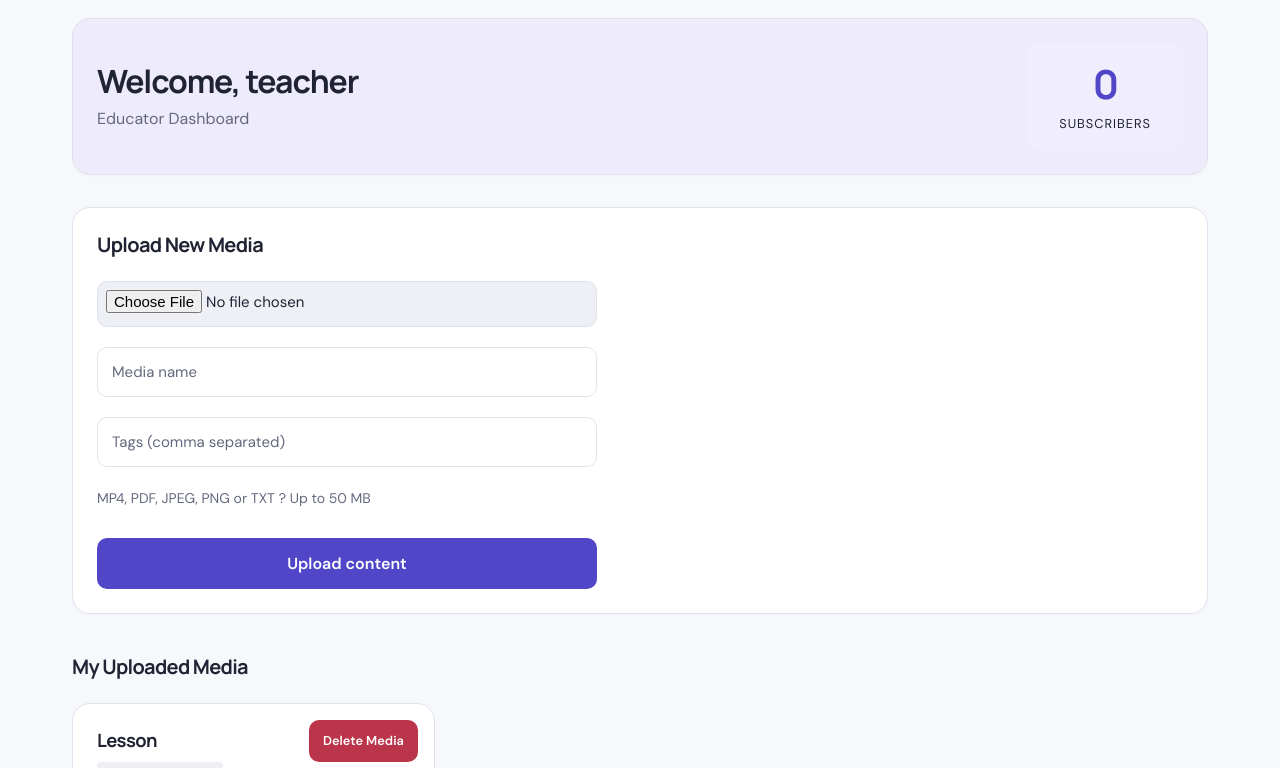
it: delete failure keeps media visible
Click the button "Delete Media". click: x=363, y=742
box: left=309, top=720, right=418, bottom=762
(page scrolled)
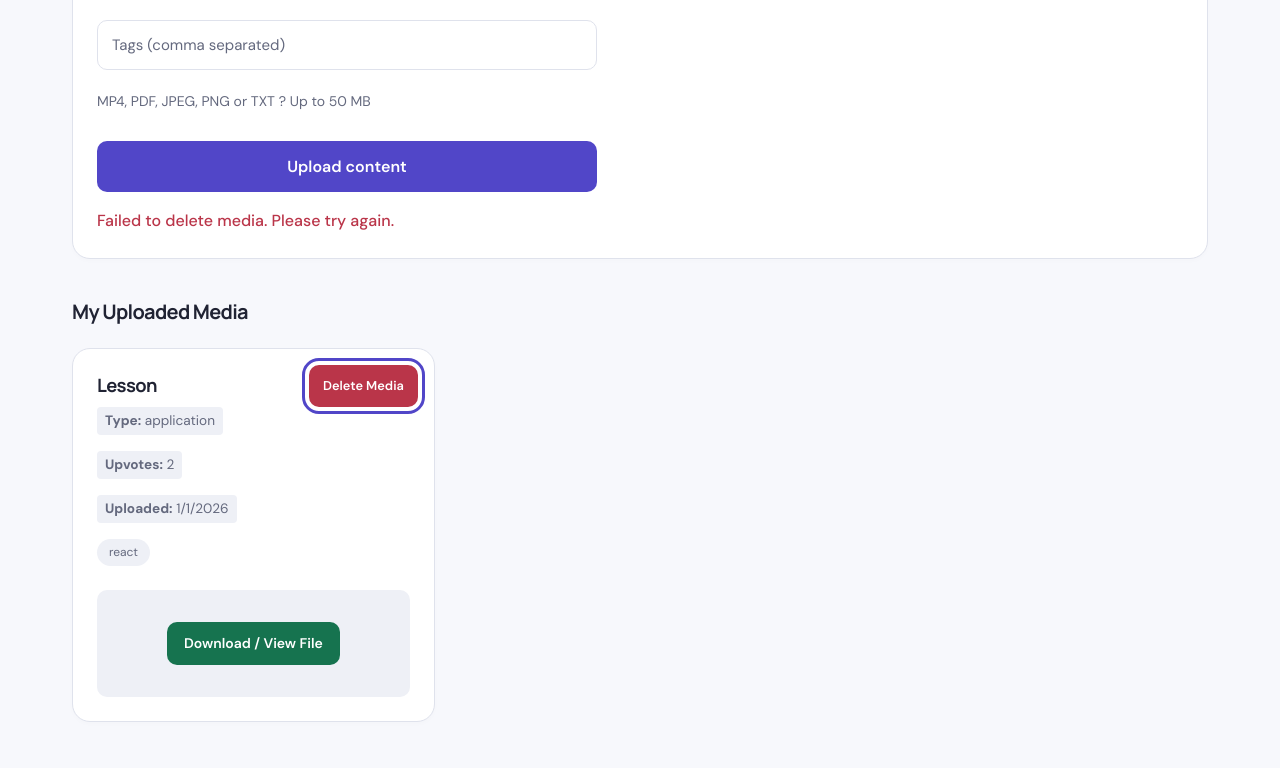
Expected: the heading "Lesson" is shown, left=97, top=372, right=157, bottom=398
Now the message shows "Failed to delete", box left=97, top=210, right=394, bottom=232
